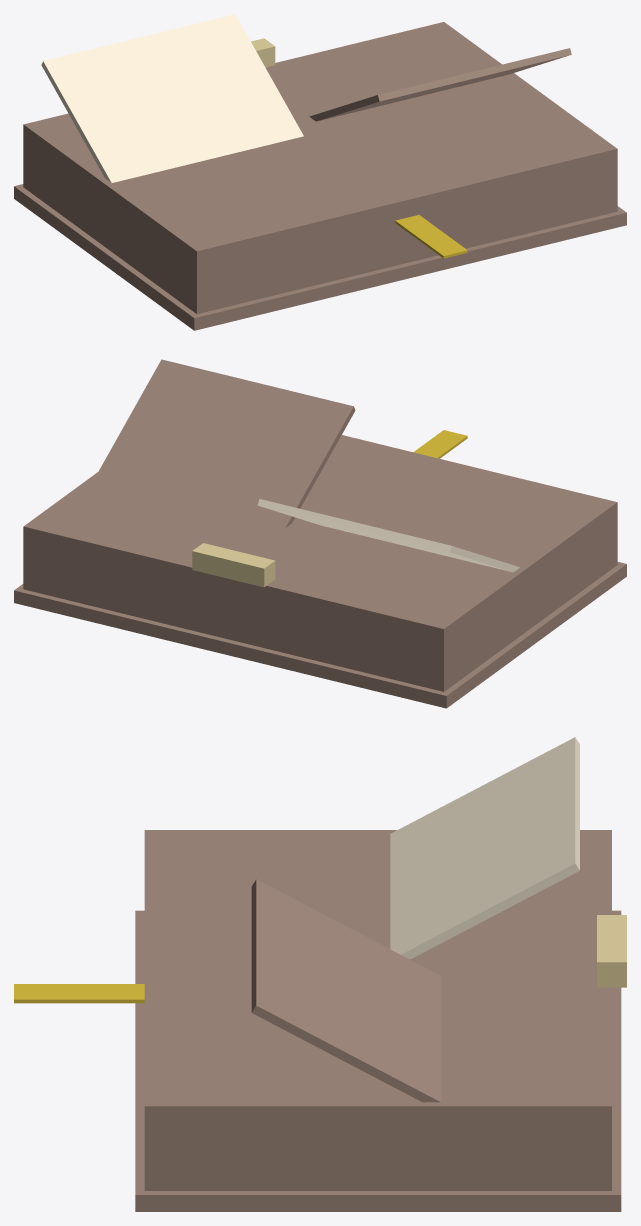
Rendered from sheet-music-case.gltf.
3 renders of one model, top to bottom at view 1: azimuth 30°, elevation 25°; view 2: azimuth 150°, elevation 25°; view 3: azimuth 270°, elevation 25°, orthographic. The views are drawn at different scales.
Parts seen in each view (by area): view 1: CaseBody_A, InnerLid_F, Bottom_B, OuterCover_H, Ribbon_L, Handle_M; view 2: CaseBody_A, OuterCover_H, Bottom_B, InnerLid_F, Handle_M, Ribbon_L; view 3: CaseBody_A, OuterCover_H, InnerLid_F, Bottom_B, Ribbon_L, Handle_M.
Part boxes in pixels (left/top/right/bottom): CaseBody_A: left=23, top=22, right=617, bottom=313; InnerLid_F: left=41, top=14, right=303, bottom=182; Bottom_B: left=14, top=184, right=626, bottom=330; OuterCover_H: left=309, top=48, right=571, bottom=121; Ribbon_L: left=395, top=215, right=467, bottom=258; Handle_M: left=251, top=38, right=275, bottom=67; CaseBody_A: left=23, top=435, right=617, bottom=691; OuterCover_H: left=93, top=359, right=355, bottom=528; Bottom_B: left=14, top=562, right=626, bottom=708; InnerLid_F: left=257, top=499, right=519, bottom=572; Handle_M: left=192, top=543, right=275, bottom=587; Ribbon_L: left=413, top=430, right=467, bottom=458; CaseBody_A: left=144, top=830, right=611, bottom=1190; OuterCover_H: left=251, top=879, right=441, bottom=1102; InnerLid_F: left=390, top=737, right=579, bottom=959; Bottom_B: left=135, top=910, right=621, bottom=1211; Ribbon_L: left=14, top=984, right=144, bottom=1003; Handle_M: left=597, top=915, right=626, bottom=987.
Size of the model in its own units: 0.36 by 0.1172 by 0.328.
